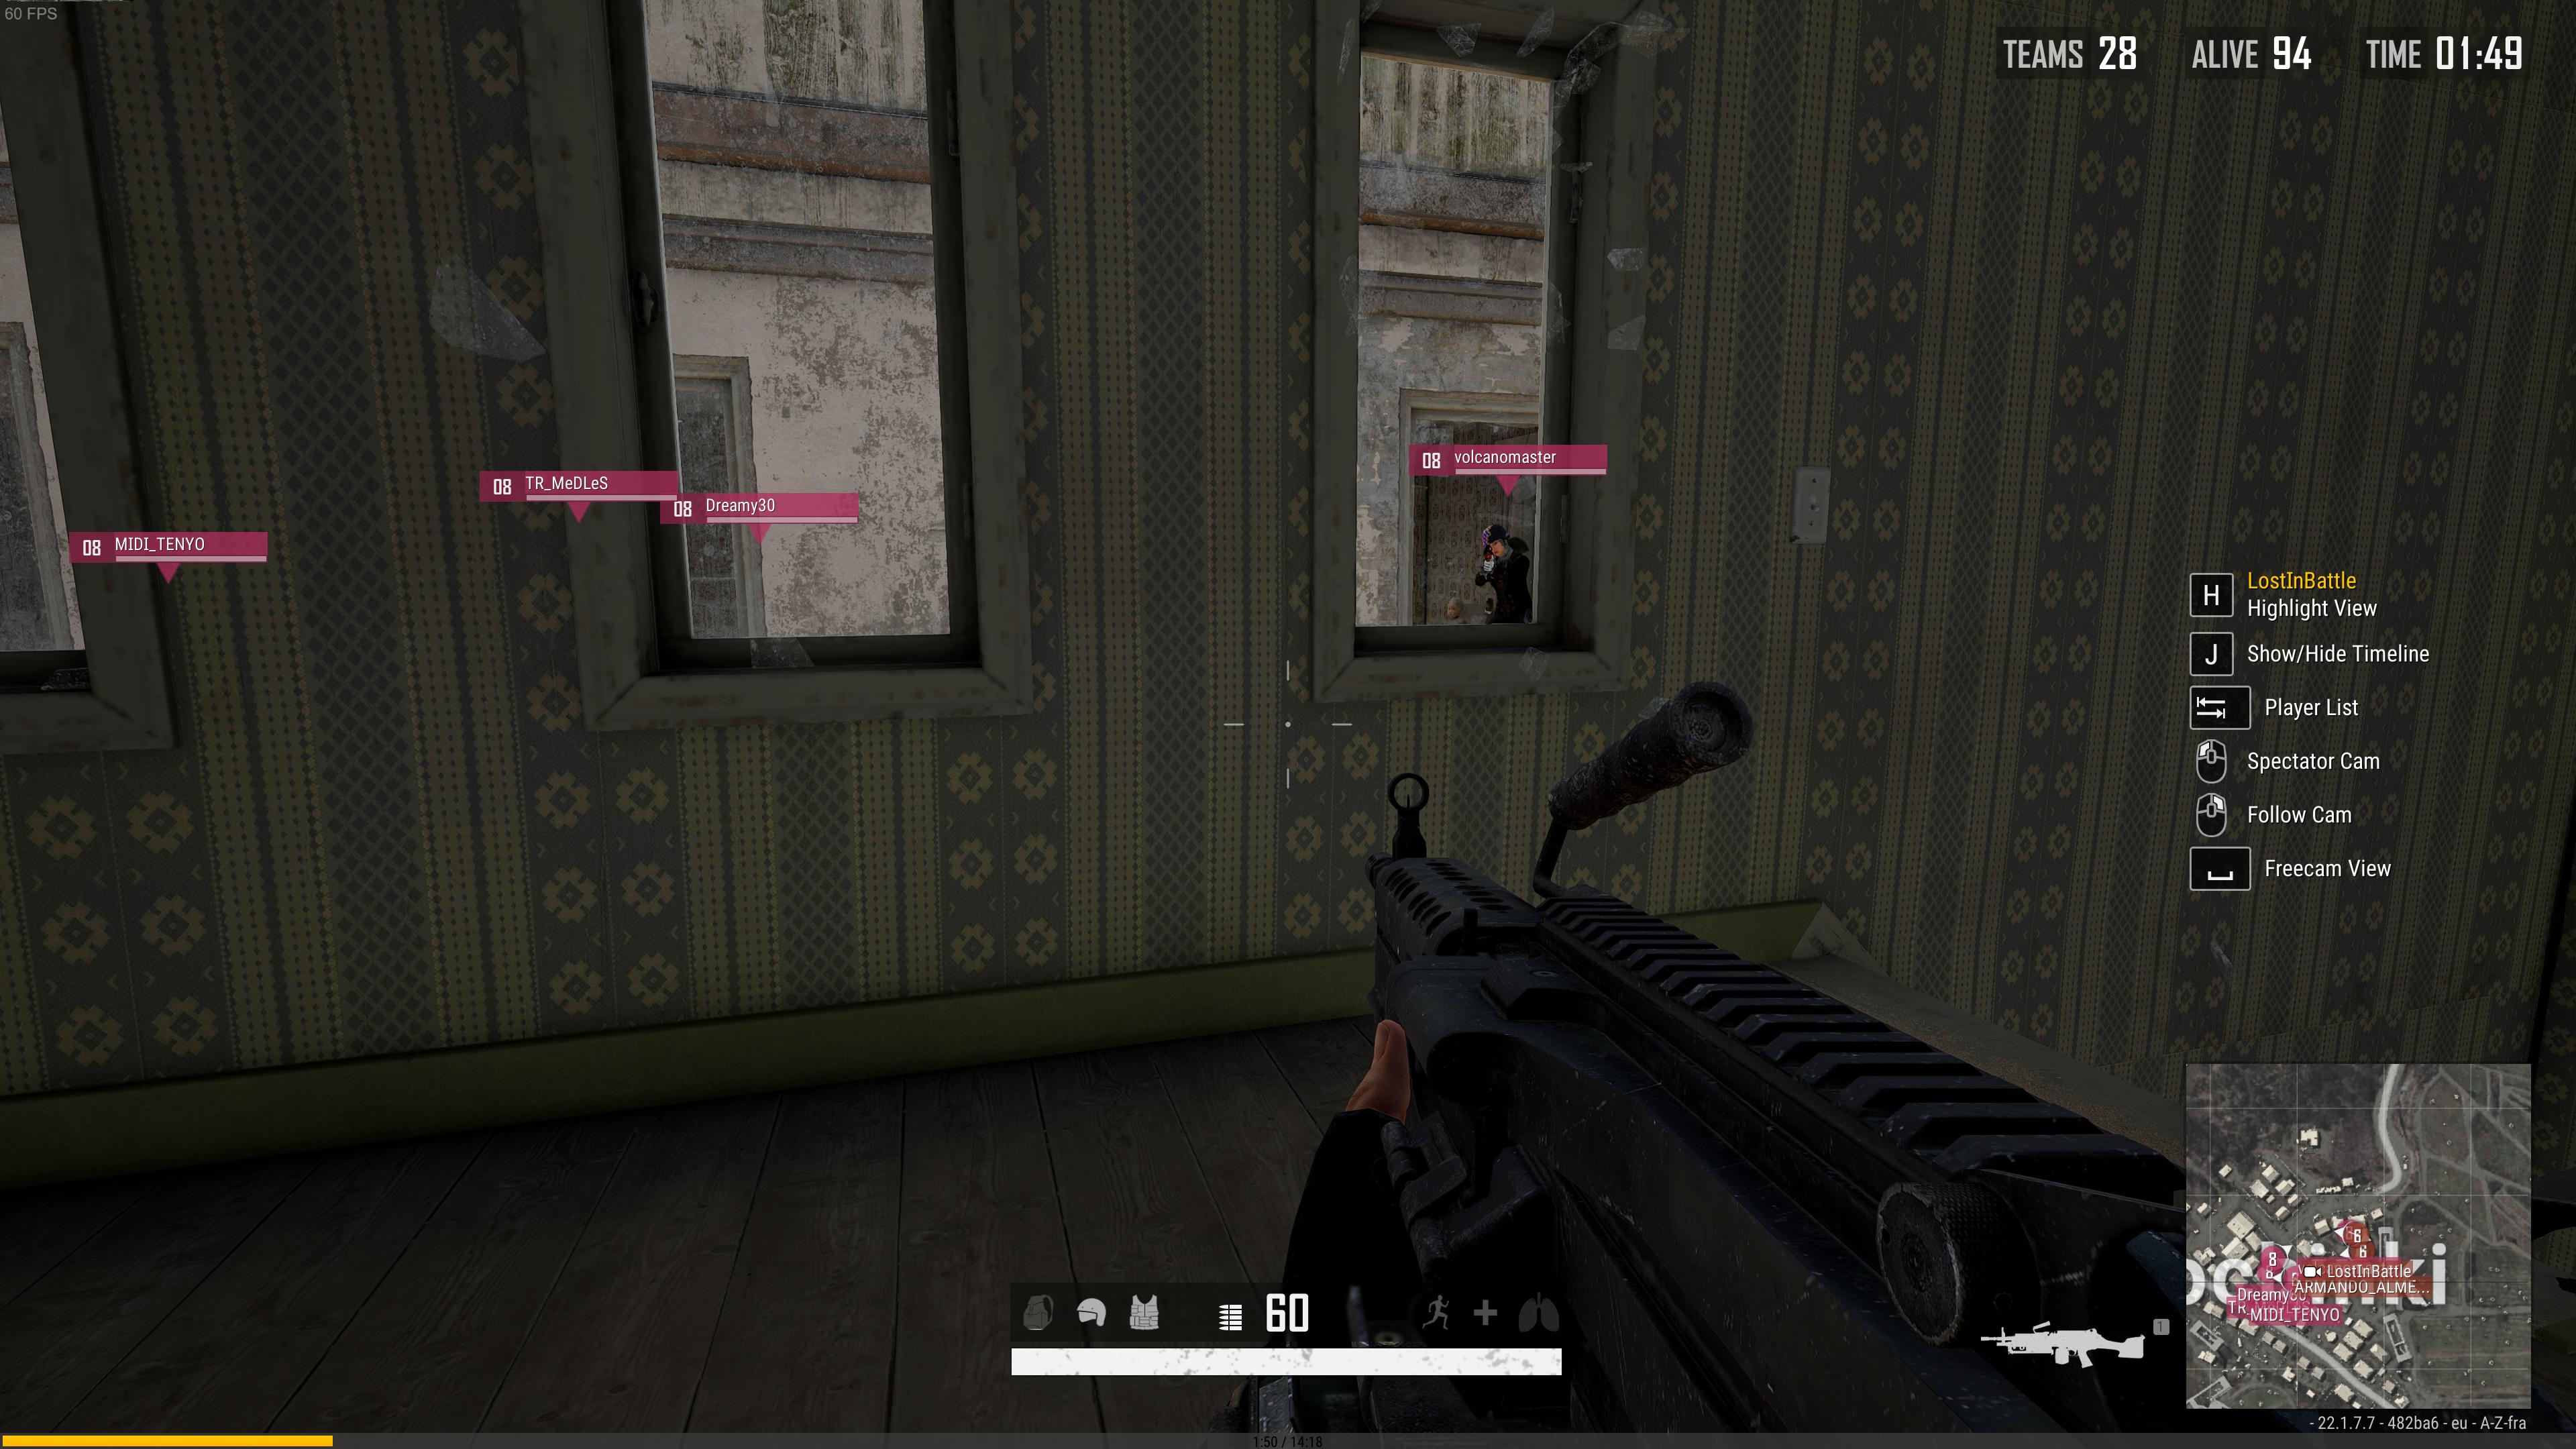enemy: (1474, 524, 1532, 623)
enemy_head: (1481, 524, 1509, 556)
